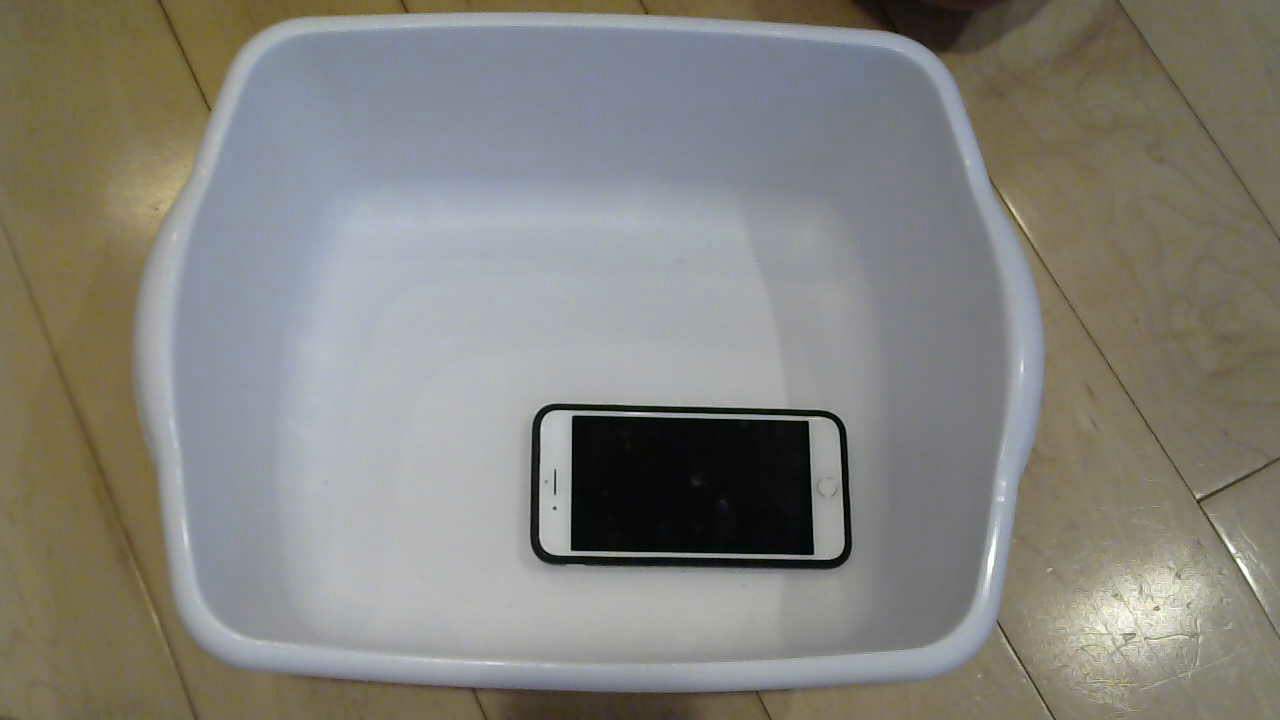phone: (495, 390, 869, 583)
